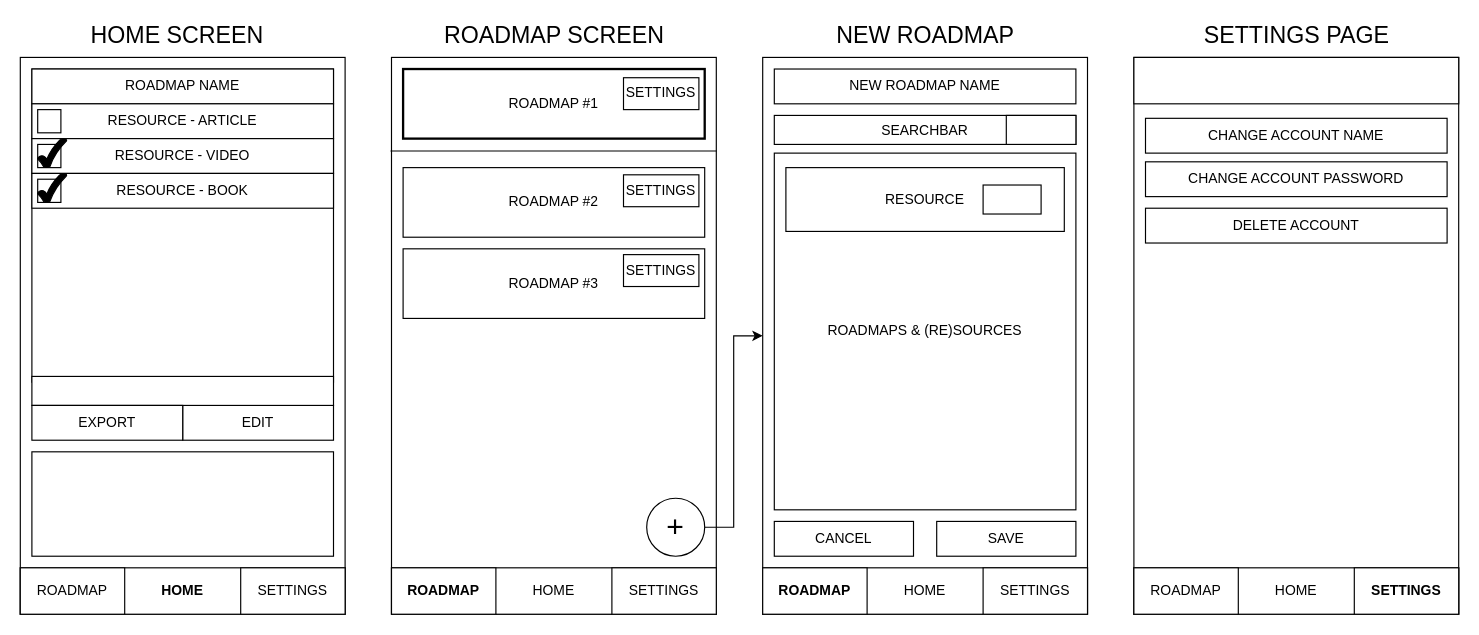
Some shapes in this 1479 by 635 pixel diagram are drawn without their labels. The centre of each missing label's shape, as x and y in pixels:
"ACCOUNT NAME" goes at [1296,80].
"ACHIEVEMENTS" goes at [182,503].
"ADD" goes at [1011,199].
"PROGRESS BAR" goes at [182,390].
"SEARCH" goes at [1040,129].
